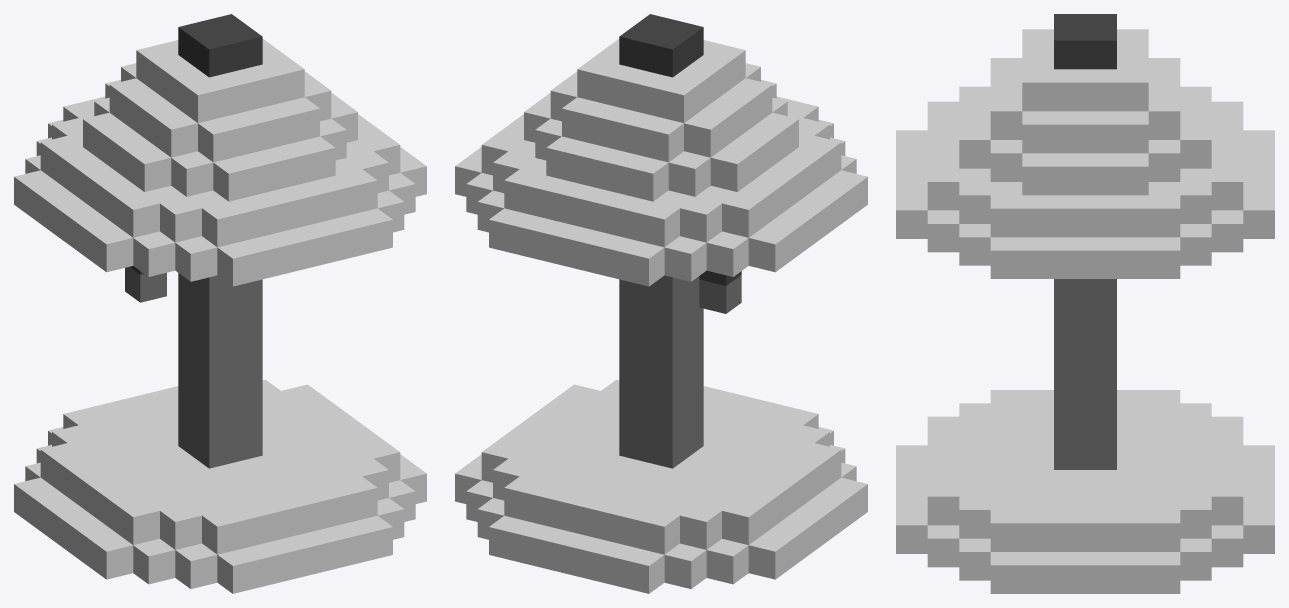
File: Tablelamp_1.obj
3 renders of one model, left to right at view 1: azimuth 30°, elevation 25°; view 2: azimuth 150°, elevation 25°; view 3: azimuth 270°, elevation 25°, orthographic. The views are drawn at different scales.
Visible parts, largest first — view 1: Tablelamp_1; view 2: Tablelamp_1; view 3: Tablelamp_1.
Boxes of the visible parts, bbox=[...] form: Tablelamp_1: bbox=[14, 14, 426, 593]; Tablelamp_1: bbox=[455, 14, 867, 593]; Tablelamp_1: bbox=[896, 14, 1274, 593].
Bounding box in the file's own units: 24 × 34 × 24.
1 material, 1 textured.
